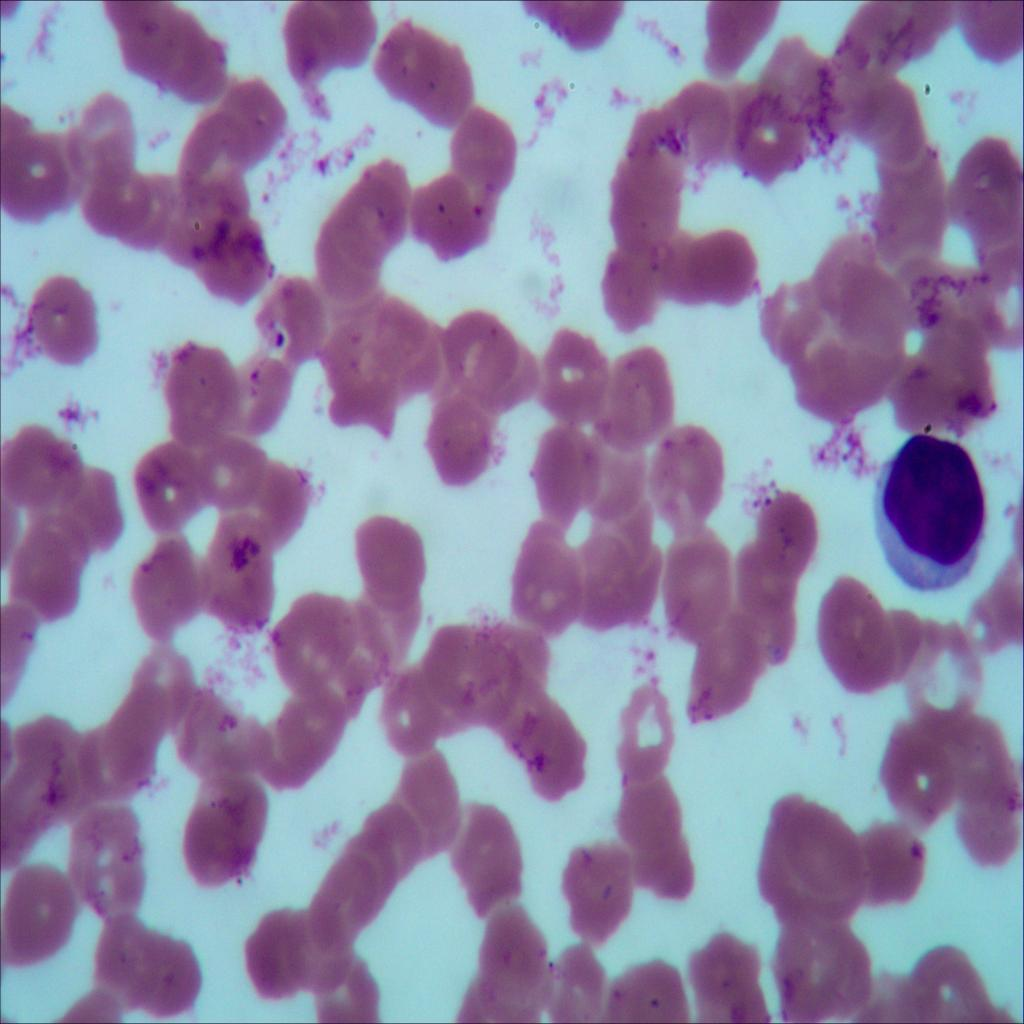Limfoblast: (870, 430, 990, 596)
